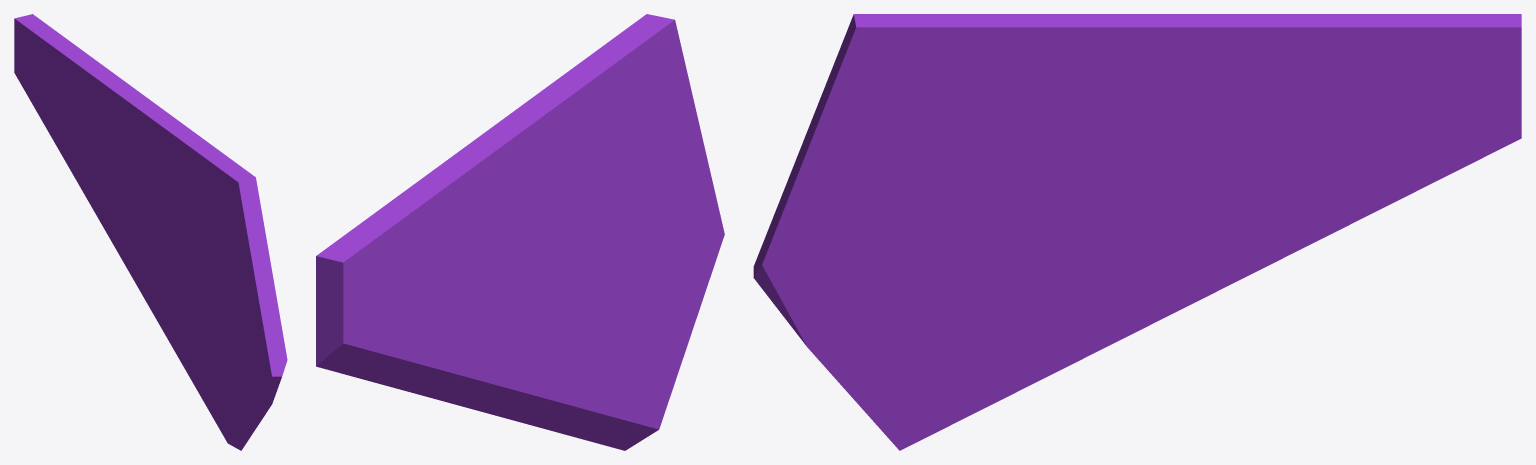
Rendered from Glass_67_6_chunks.fbx.
The picture shows the model from 3 angles, left to right: view 1: azimuth 30°, elevation 25°; view 2: azimuth 150°, elevation 25°; view 3: azimuth 270°, elevation 25°; orthographic projection. The views are drawn at different scales.
Parts seen in each view (by area): view 1: Glass_67_6_0, Glass_67_6_1, Glass_67_6_4, Glass_67_6_5, Glass_67_6_6, Glass_67_6_3; view 2: Glass_67_6_0, Glass_67_6_1, Glass_67_6_4, Glass_67_6_5, Glass_67_6_6, Glass_67_6_3; view 3: Glass_67_6_0, Glass_67_6_1, Glass_67_6_5, Glass_67_6_4, Glass_67_6_2, Glass_67_6_6, Glass_67_6_3.
Boxes of the visible parts, box(x1,y1,x2,y2) form: Glass_67_6_0: box(169, 174, 287, 450); Glass_67_6_1: box(14, 65, 192, 381); Glass_67_6_4: box(14, 14, 135, 134); Glass_67_6_5: box(127, 134, 251, 245); Glass_67_6_6: box(104, 84, 202, 160); Glass_67_6_3: box(51, 107, 132, 202); Glass_67_6_0: box(572, 14, 724, 450); Glass_67_6_1: box(316, 264, 607, 440); Glass_67_6_4: box(316, 143, 486, 331); Glass_67_6_5: box(509, 18, 659, 279); Glass_67_6_6: box(470, 58, 622, 229); Glass_67_6_3: box(397, 224, 518, 315); Glass_67_6_0: box(753, 14, 1011, 450); Glass_67_6_1: box(972, 100, 1521, 414); Glass_67_6_5: box(868, 14, 1210, 198); Glass_67_6_4: box(1191, 14, 1521, 139); Glass_67_6_2: box(947, 167, 1071, 426); Glass_67_6_6: box(960, 14, 1253, 88); Glass_67_6_3: box(1195, 121, 1342, 171).
Bounding box in the file's own units: 27.2 × 404 × 664.
